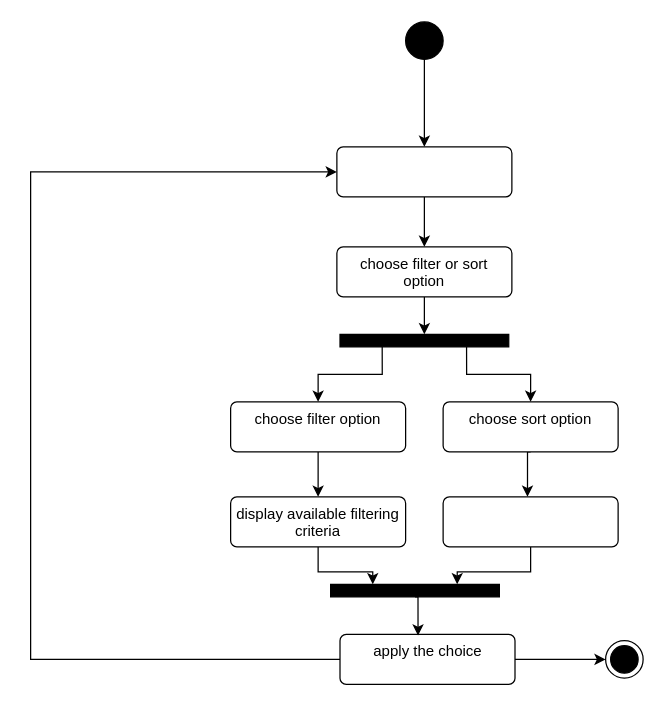
This 665x706 diagram has some shape labels left out. Here are the shapes that lost their labels. From the top down, the box of each, then its label:
(336, 146, 512, 197): display the task list
(442, 496, 618, 547): display available sorting criteria
